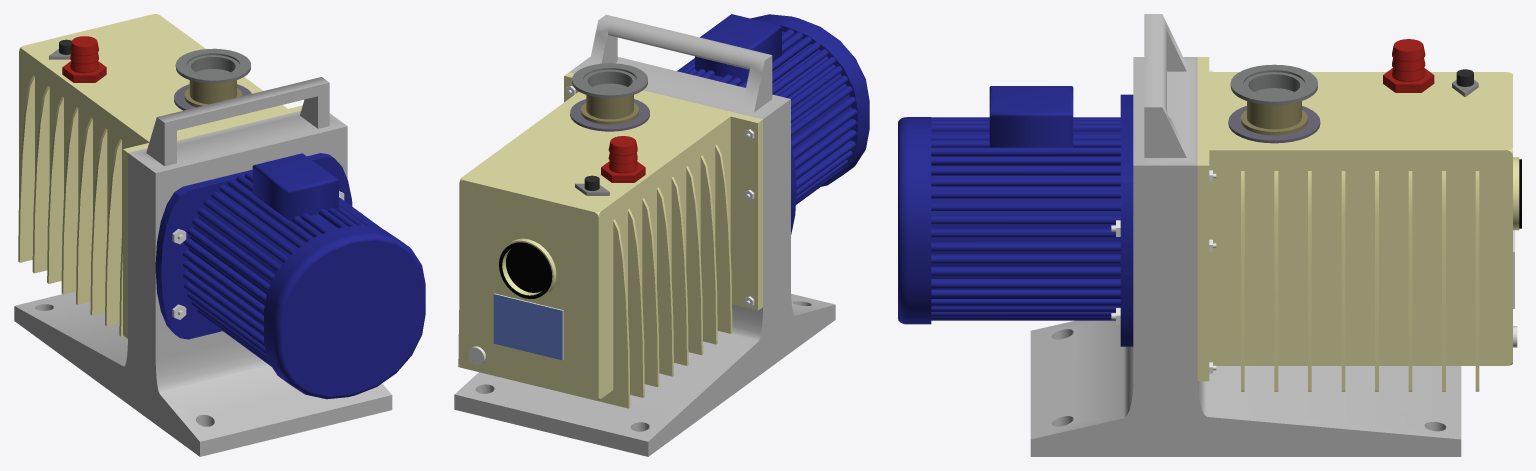
File: Compressor.fbx
3 views of the same model, side by side, from view 1: azimuth 30°, elevation 25°; view 2: azimuth 150°, elevation 25°; view 3: azimuth 270°, elevation 25° (orthographic). The views are drawn at different scales.
Visible parts, largest first — view 1: Engine, Fix, Tank, UpInPutTank, AddDetailUpTank; view 2: Tank, Fix, Engine, UpInPutTank, PlateInfo, OutputHoleTank, AddDetailUpTank, AddSecDetailUpTank; view 3: Tank, Fix, Engine, UpInPutTank, AddDetailUpTank, OutputHoleTank.
Boxes of the visible parts, x1,y1,x2,y2 form: Engine: [155, 153, 425, 399]; Fix: [14, 77, 392, 456]; Tank: [18, 14, 302, 338]; UpInPutTank: [174, 48, 251, 110]; AddDetailUpTank: [62, 36, 106, 82]; Tank: [458, 72, 762, 408]; Fix: [454, 14, 835, 456]; Engine: [677, 14, 869, 234]; UpInPutTank: [570, 63, 649, 131]; PlateInfo: [493, 293, 563, 360]; OutputHoleTank: [498, 238, 556, 299]; AddDetailUpTank: [601, 136, 645, 182]; AddSecDetailUpTank: [575, 175, 609, 195]; Tank: [1197, 57, 1512, 391]; Fix: [1030, 14, 1461, 456]; Engine: [898, 86, 1133, 346]; UpInPutTank: [1228, 64, 1320, 143]; AddDetailUpTank: [1383, 39, 1434, 92]; OutputHoleTank: [1513, 157, 1521, 230].
Size of the model in its own units: 200 by 293 by 485.
